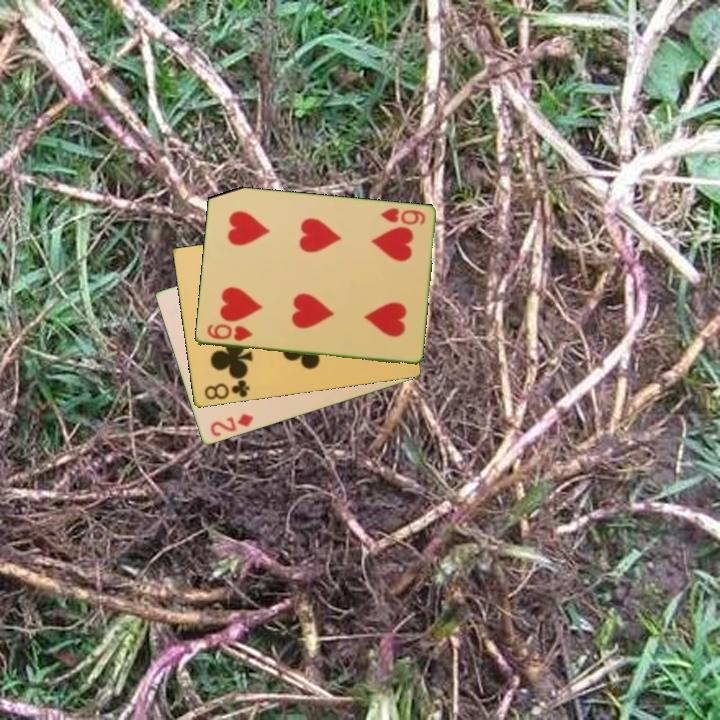2d: (206, 410, 256, 440)
6h: (203, 320, 255, 344), (377, 204, 428, 228)
8c: (200, 376, 252, 403)
